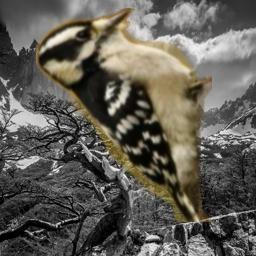Woodpecker: (36, 8, 212, 222), (90, 34, 176, 141)
